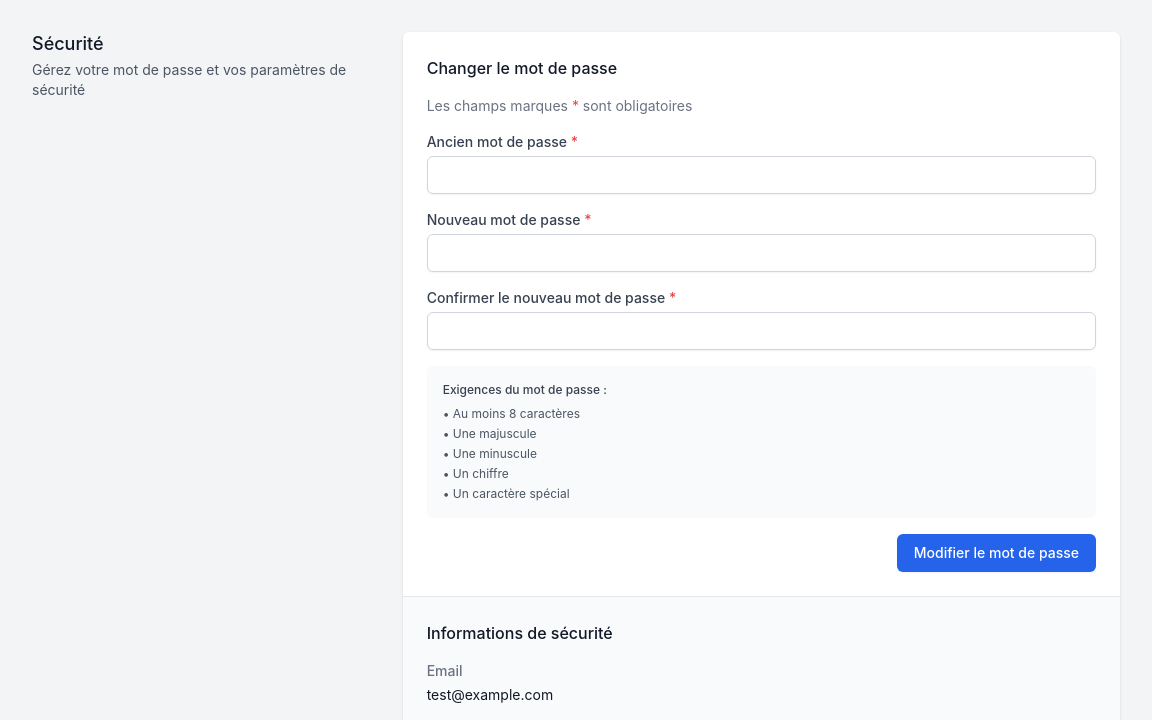
SecuritySettingsPage › should handle incorrect old password error
The width and height of the screenshot is (1152, 720).
In the password field labelled "Ancien mot de passe *": (761, 175) [427,156,1096,194], type "WrongPassword123!"
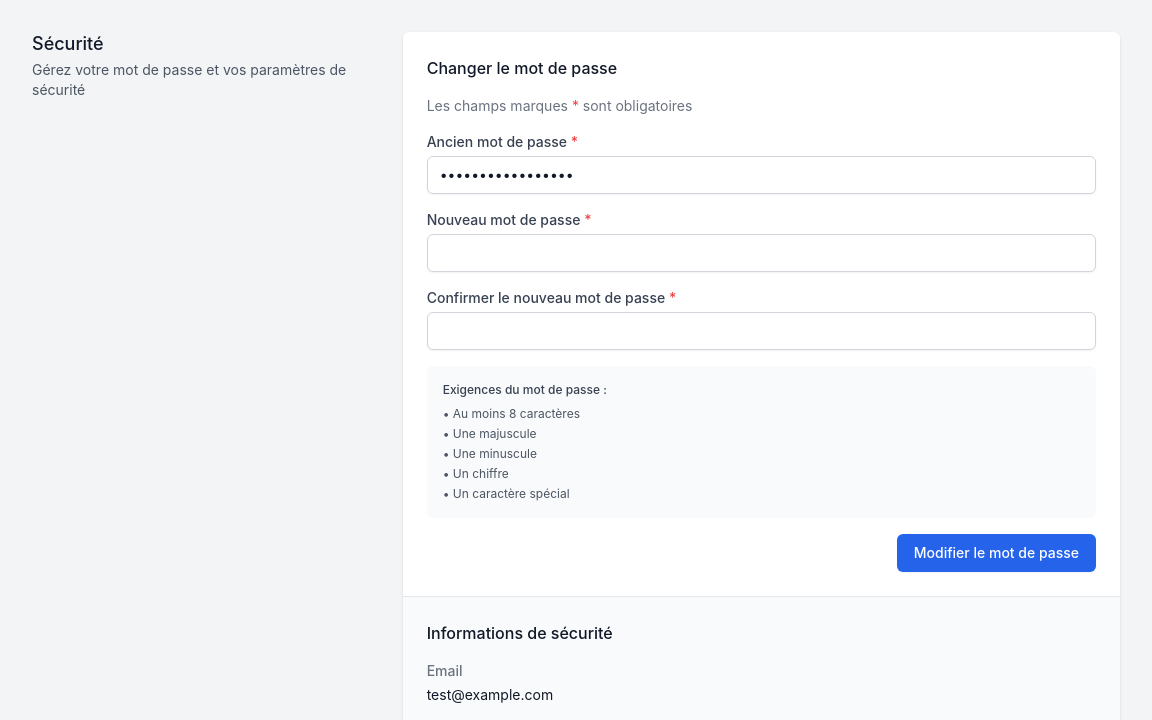
In the password field labelled "Nouveau mot de passe *": (761, 253) [427,234,1096,272], type "NewPassword123!"
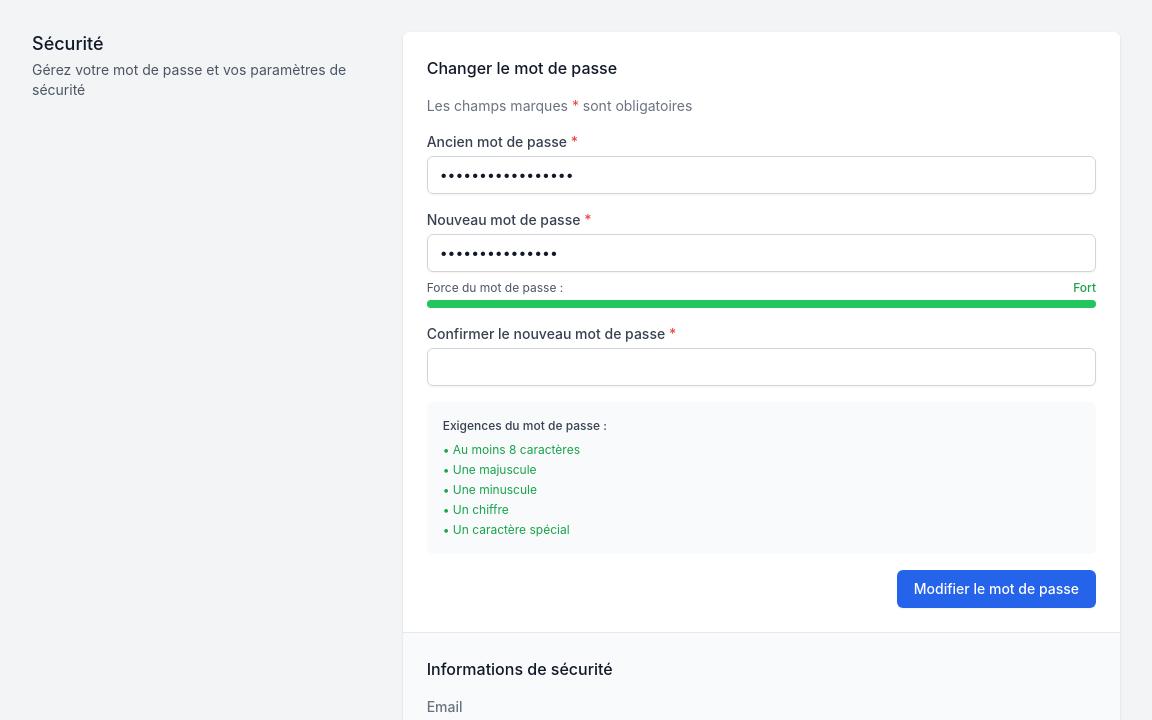
In the password field labelled "Confirmer le nouveau mot de passe *": (761, 367) [427,348,1096,386], type "NewPassword123!"
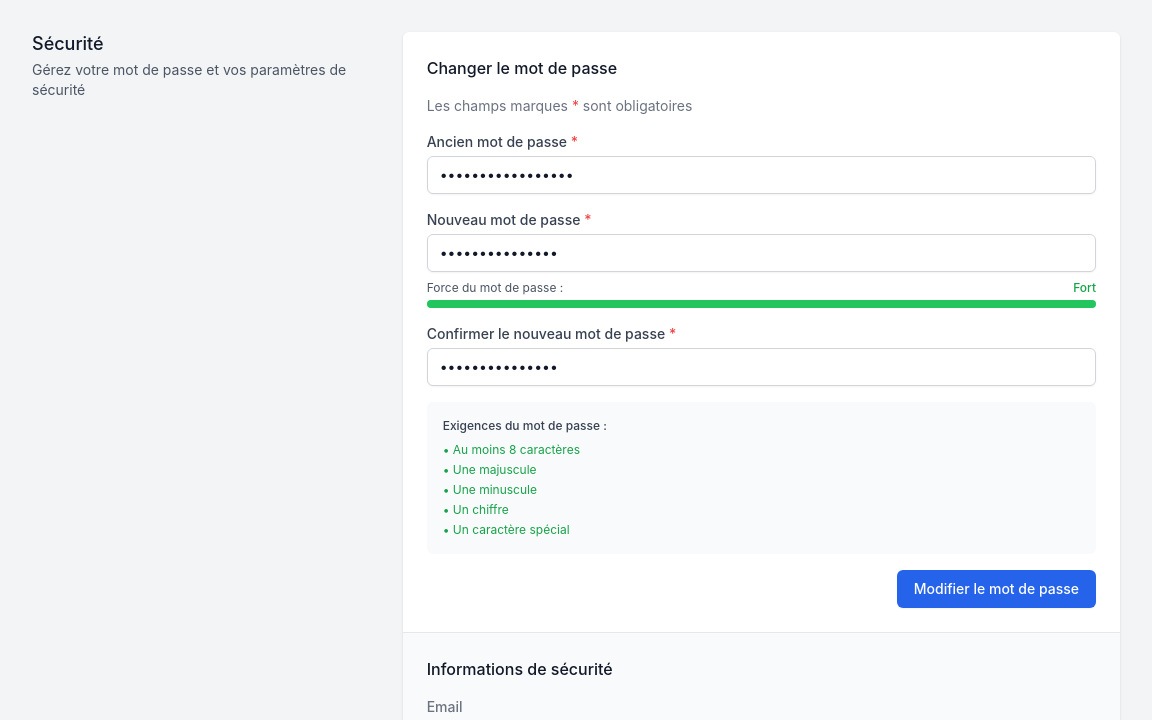
Click the button "Modifier le mot de passe": (996, 589) [897,570,1096,608]
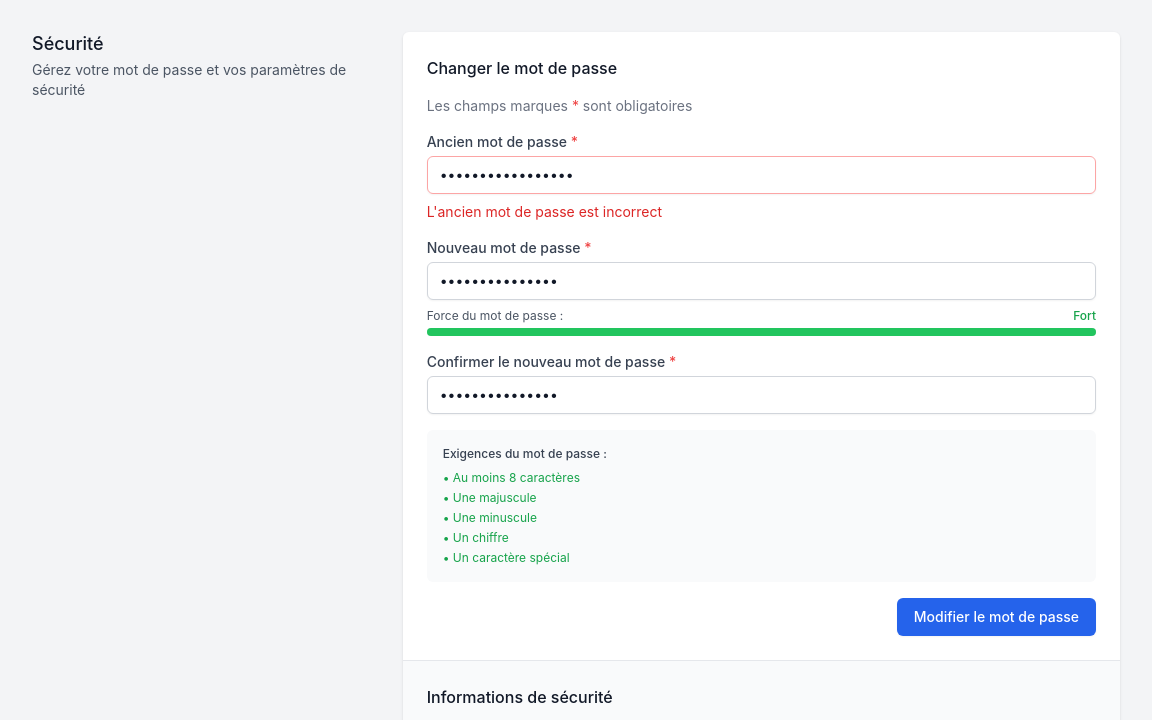
Result: the text "L'ancien mot de passe est incorrect" is shown at [427,203,662,220]
